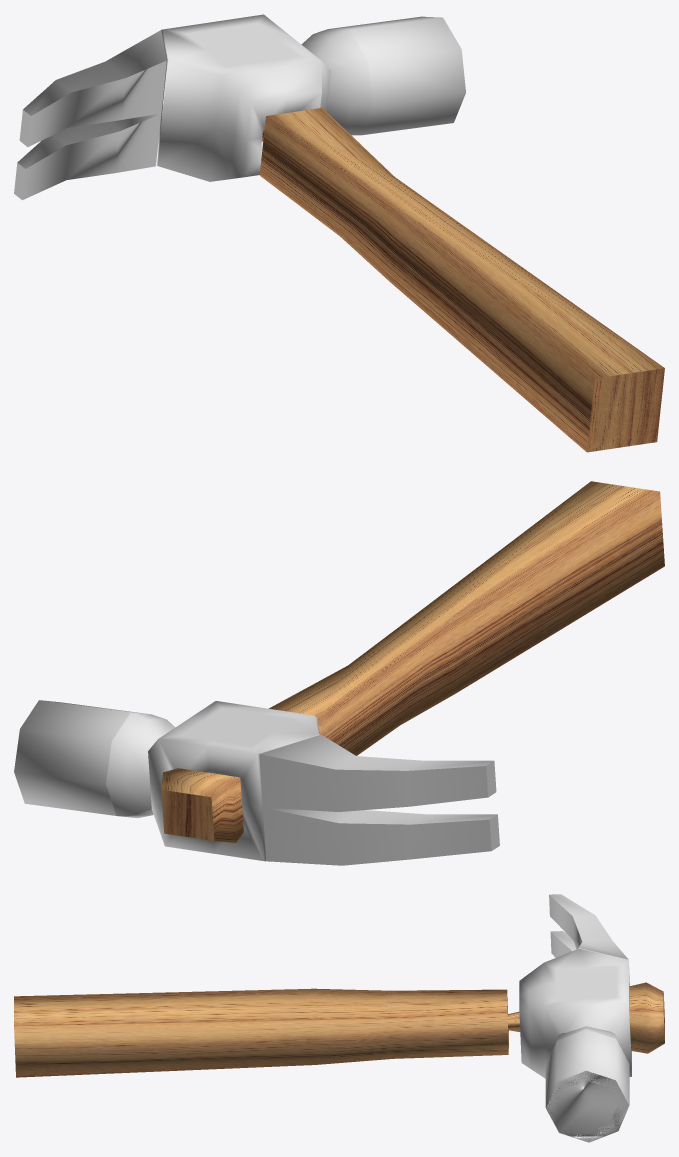
3 views of the same model, one above another, from view 1: azimuth 30°, elevation 25°; view 2: azimuth 150°, elevation 25°; view 3: azimuth 270°, elevation 25° (orthographic). The views are drawn at different scales.
Visible parts, largest first — view 1: Cube, 立方体; view 2: Cube, 立方体; view 3: 立方体, Cube.
Boxes of the visible parts, x1,y1,x2,y2 form: Cube: (14,14,465,200); 立方体: (259,107,664,452); Cube: (14,700,499,865); 立方体: (161,481,664,842); 立方体: (14,982,664,1077); Cube: (519,894,631,1142).
Size of what is drawn, in the model's own units: 8.79 by 2.52 by 15.26.
2 materials, 1 textured.
